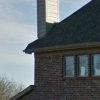Chimney: (31, 1, 63, 40)
